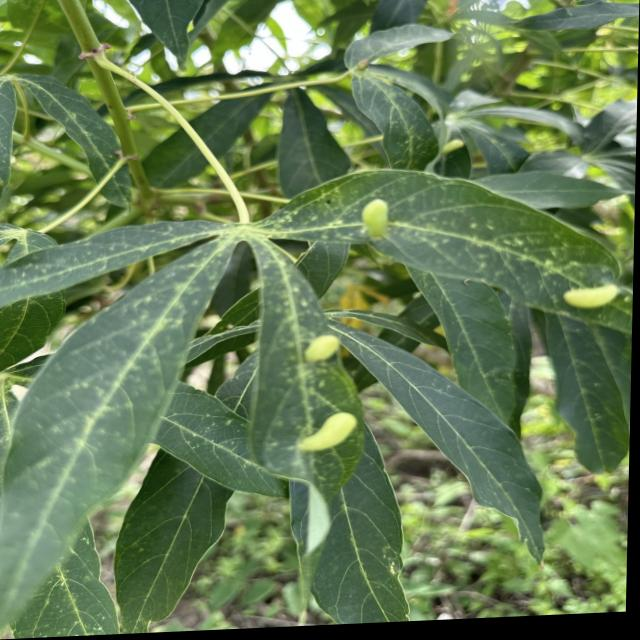Mosca: (279, 403, 367, 479), (551, 263, 623, 321), (345, 190, 411, 243), (295, 325, 340, 368)
